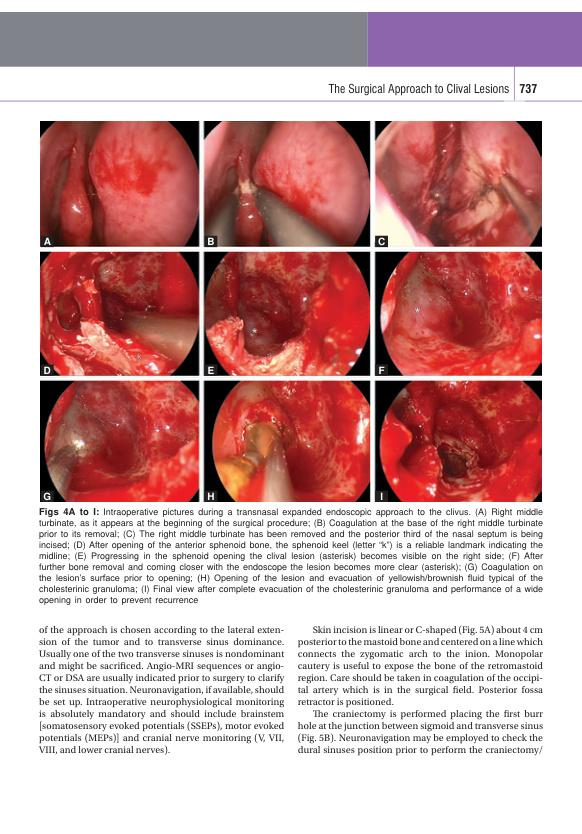caption: (37, 506, 544, 608), (376, 236, 387, 247), (42, 364, 52, 375), (206, 364, 216, 375), (206, 235, 216, 245), (42, 491, 52, 501), (43, 235, 52, 246), (377, 364, 386, 375), (206, 491, 215, 501), (379, 491, 385, 501)
header: (327, 81, 511, 96)
image: (204, 120, 371, 248), (375, 120, 543, 246), (204, 251, 371, 376), (203, 379, 371, 503), (375, 379, 543, 503), (375, 252, 543, 375), (40, 120, 199, 247), (40, 251, 200, 376), (40, 380, 199, 502)
text: (37, 624, 285, 757), (296, 624, 544, 756)
